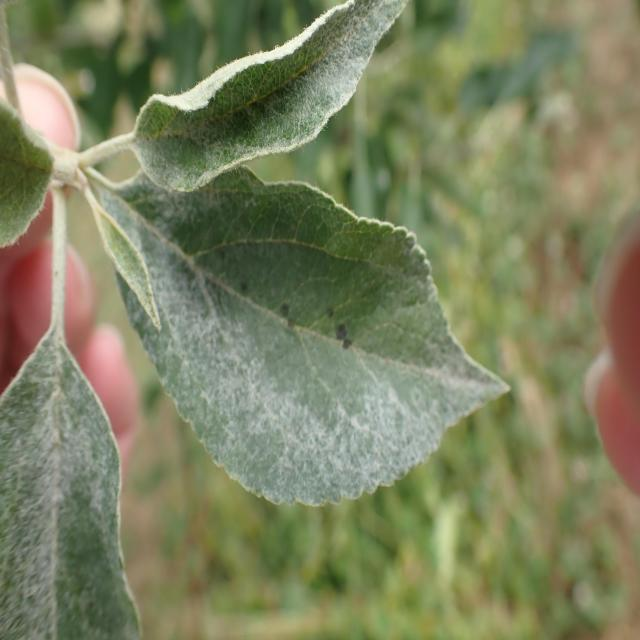healthy: (94, 166, 513, 508)
